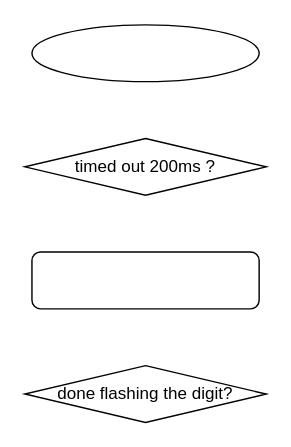
This 291x447 diagram has some shape labels left out. The centre of each missing label's shape, as x and y in pixels:
"Set ON and OFF times" belongs at point (145, 280).
"void flashDigit(int num)" belongs at point (145, 52).
